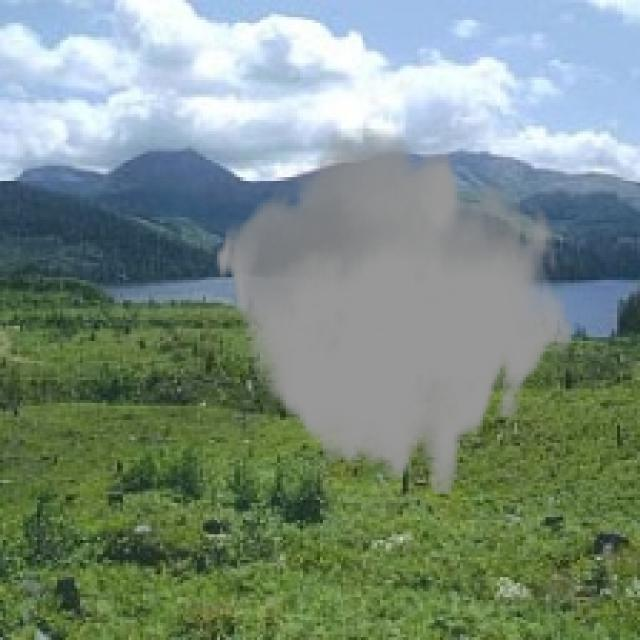smoke: (215, 129, 574, 494)
